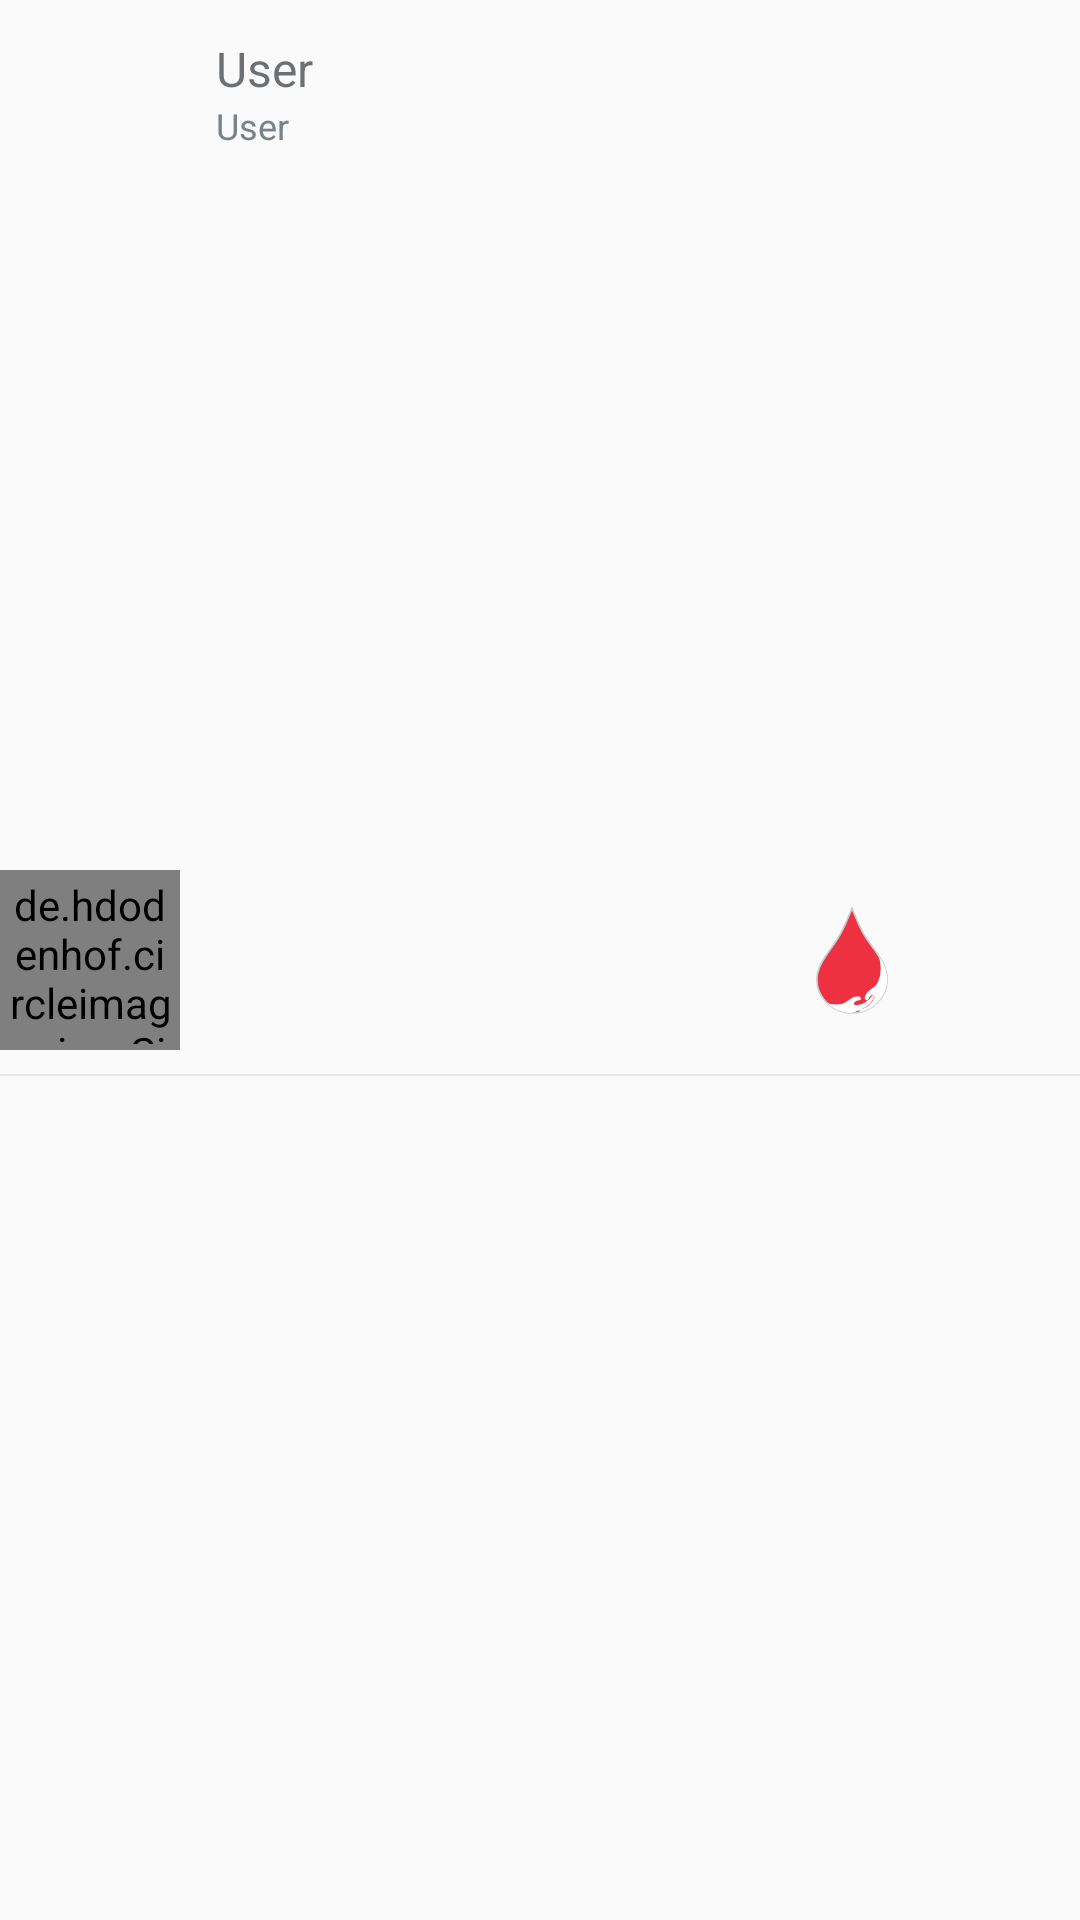

Point at icon controls on the screen. Image size 1080×1920, points as (x,y).
bloodhub: (852,960)
